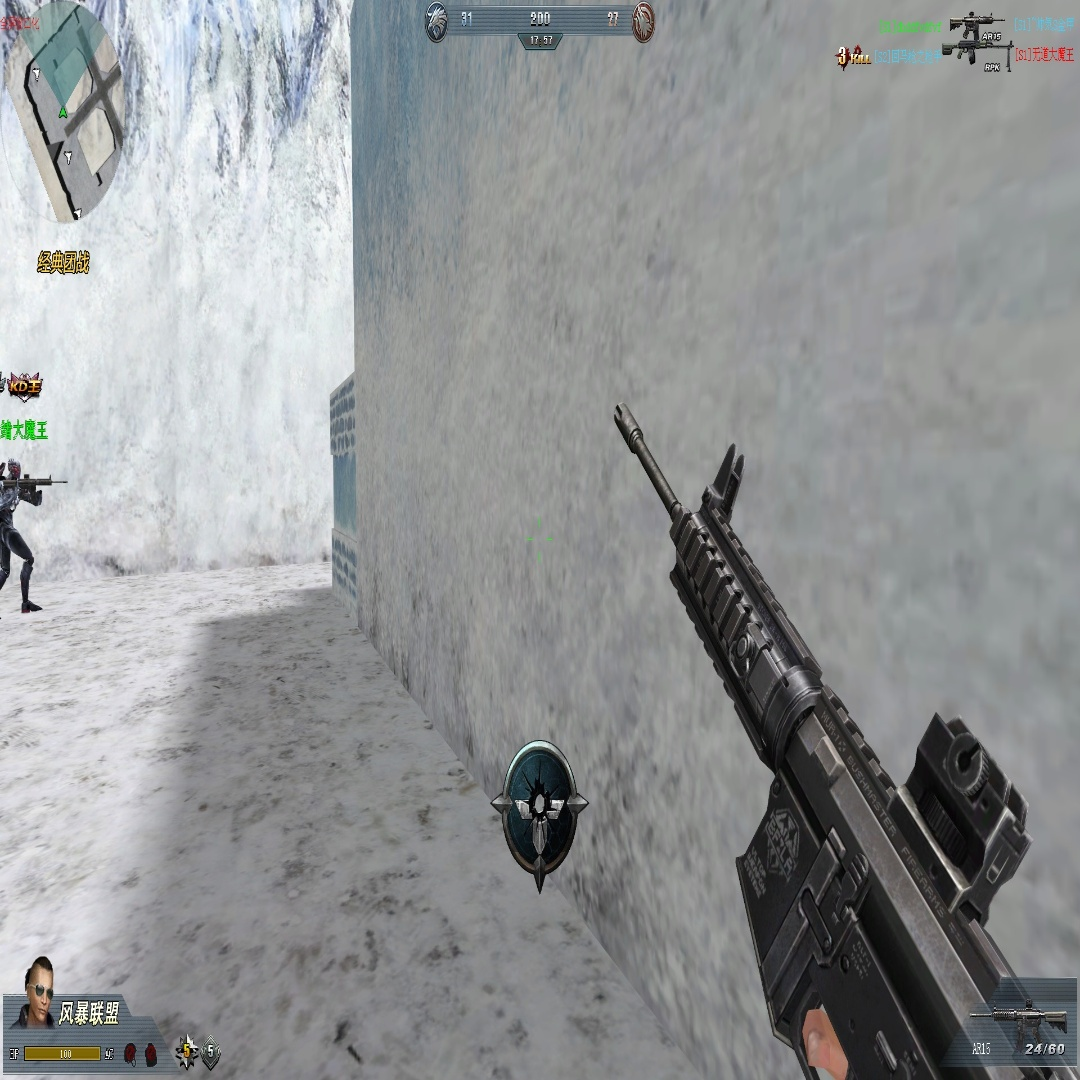ct: (0, 456, 43, 614)
